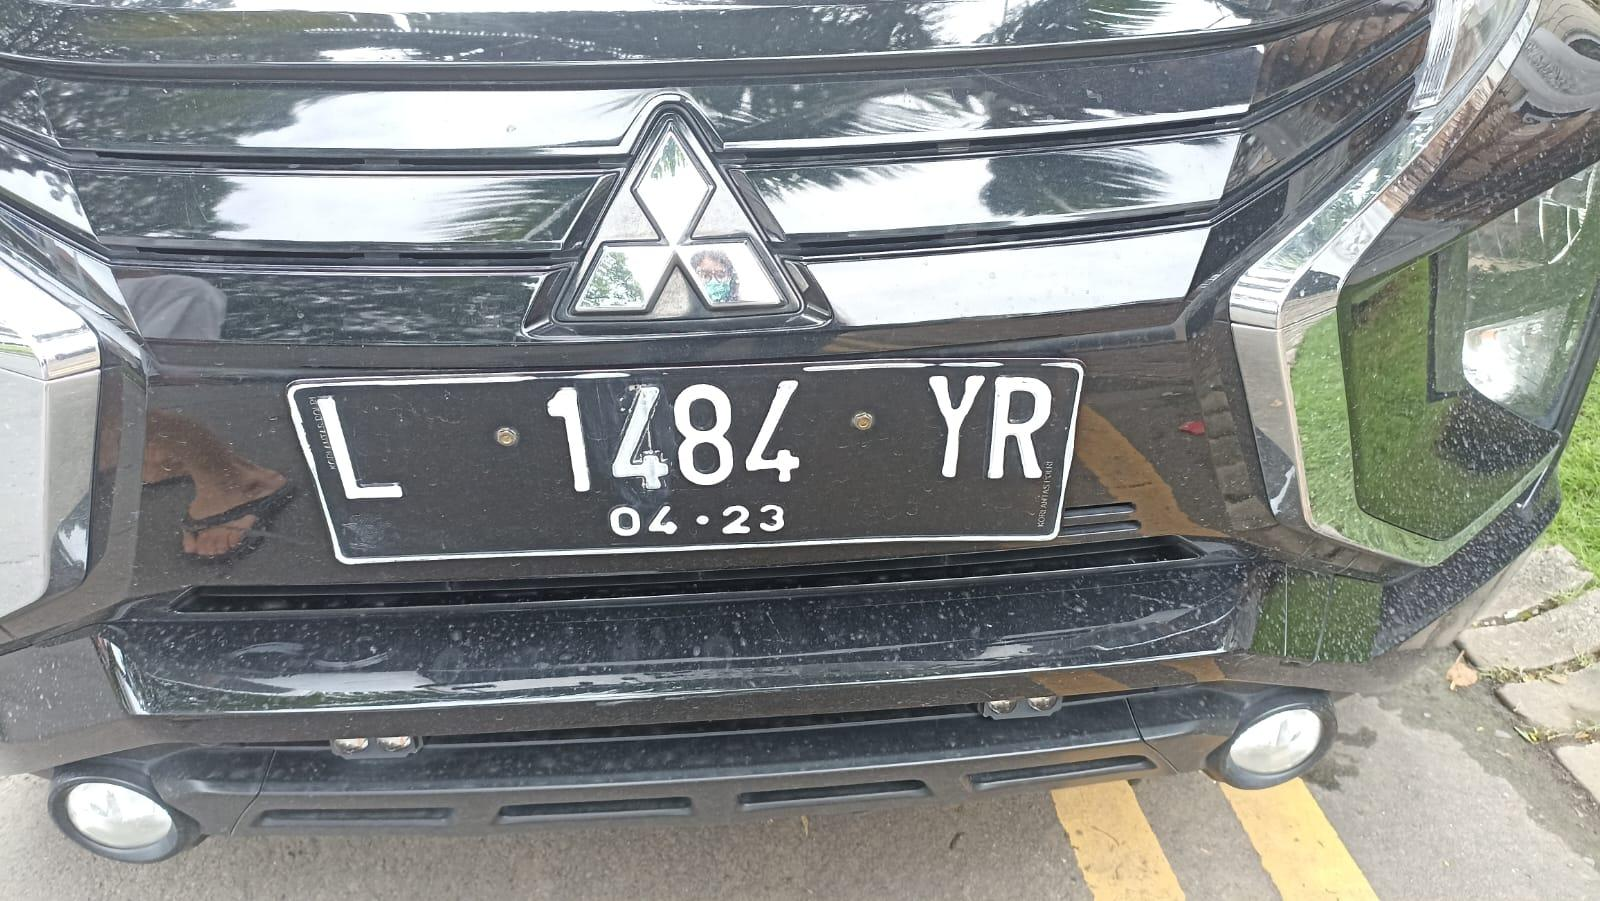plat: (288, 359, 1085, 566)
